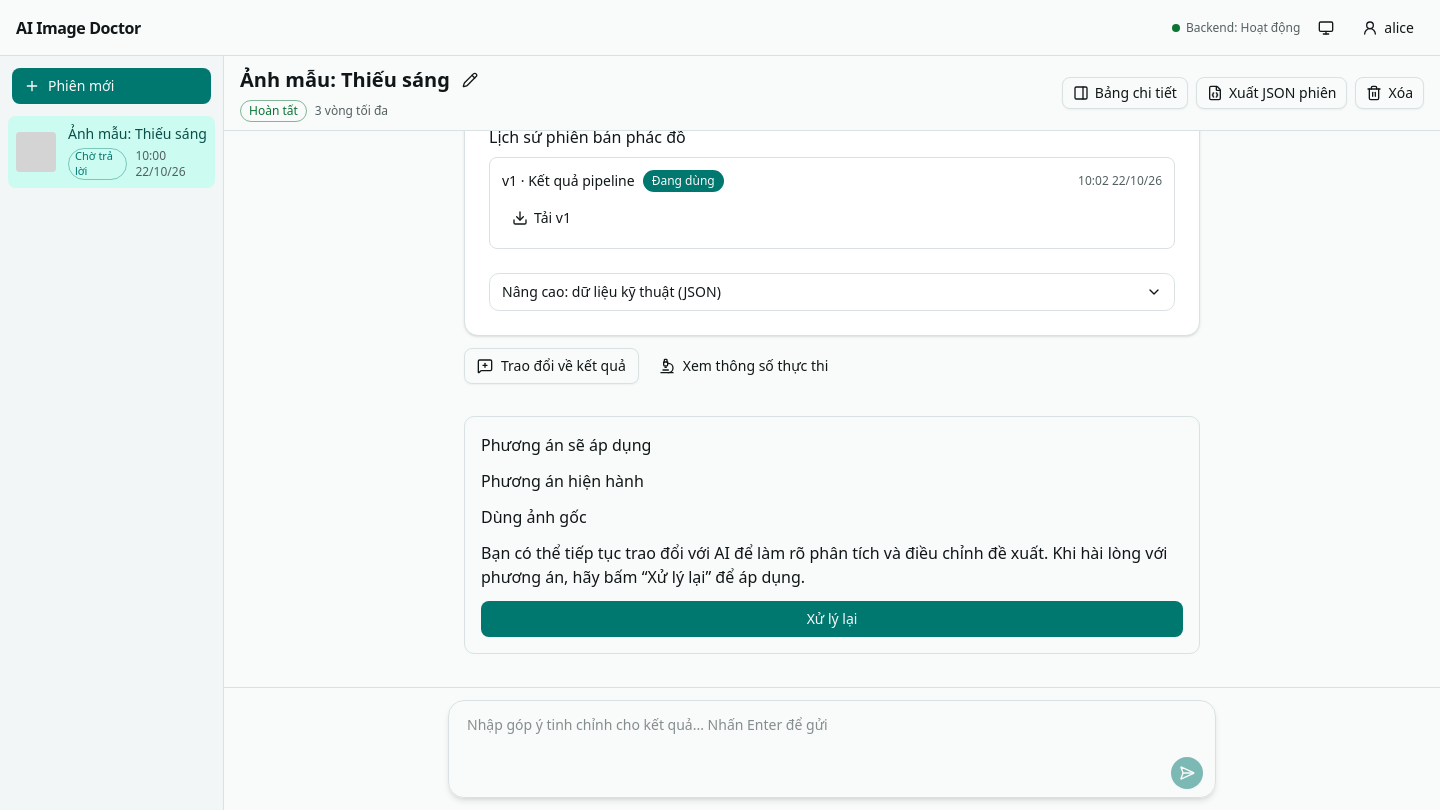
result view › shows the executed actions and reasoning in the inspection side pane
(page scrolled)
Step 1. Click the button "Xem thông số thực thi" → click(744, 366), box [647,348,840,384]
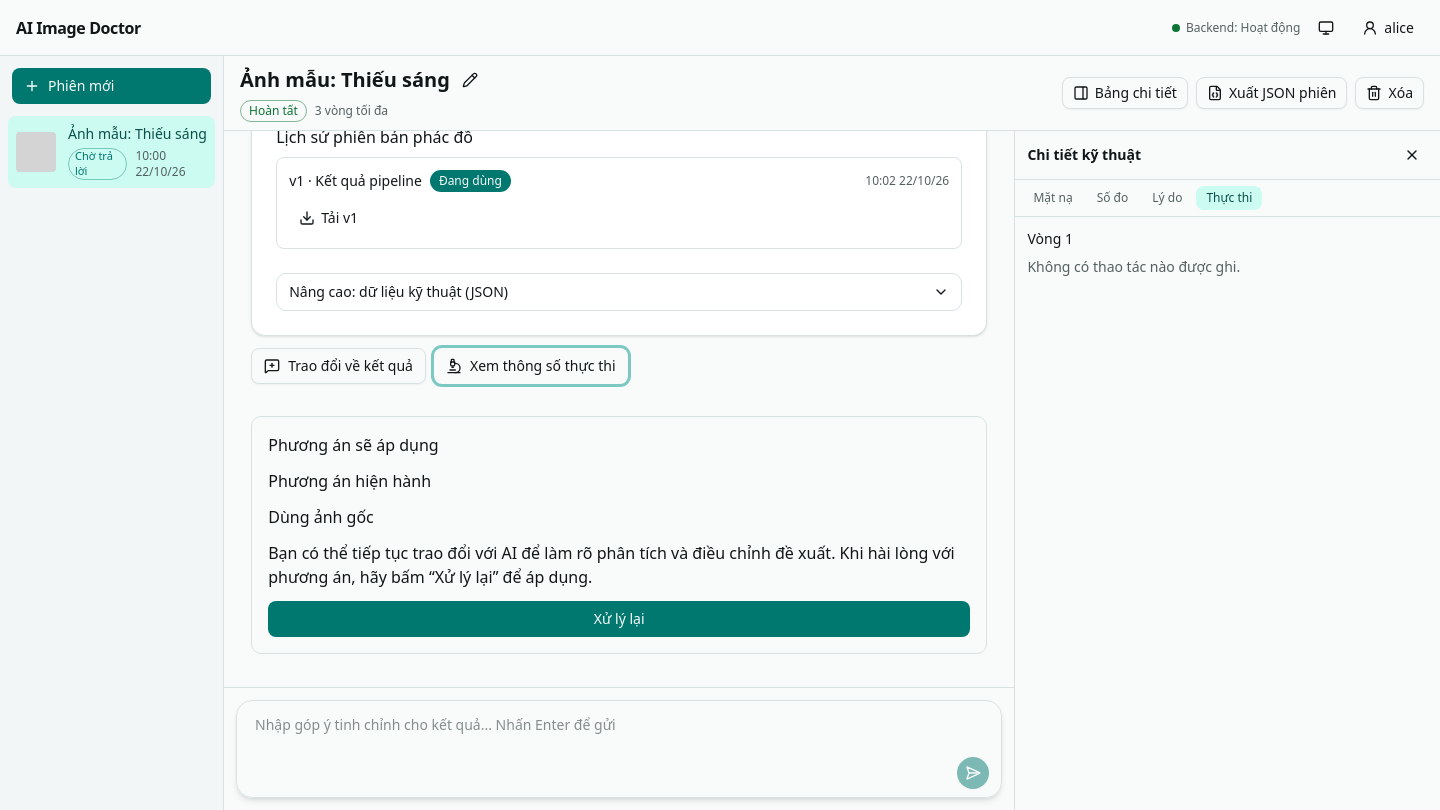
Expected: the heading "Vòng 1" is shown, [1027,229,1073,248]
Step 2. Click the tab "Lý do" → click(1167, 198), box [1142,186,1192,210]
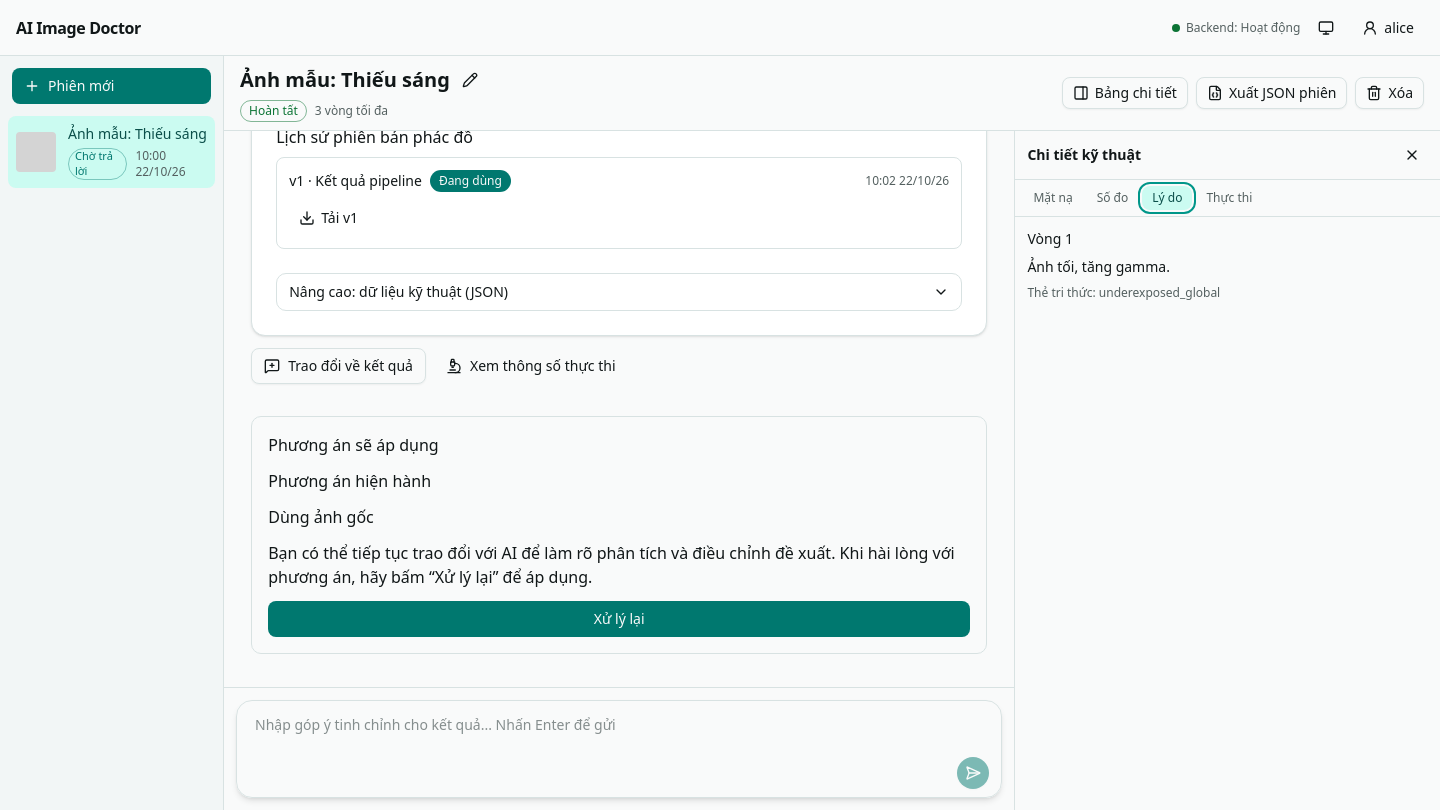
Expected: the text "Ảnh tối, tăng gamma." is shown, [1027,257,1170,276]
Expected: the text "Thẻ tri thức: underexposed_global" is shown, [1027,284,1220,301]
